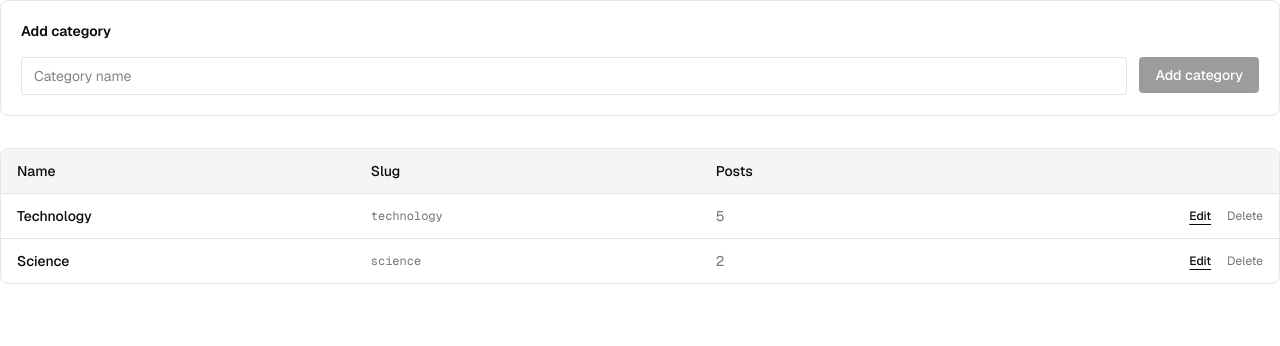
Scenario: CategoryManager › add form submits POST /api/categories and adds to list
In the field with placeholder "Category name": [574, 76] box [21,57,1127,95], type "History"
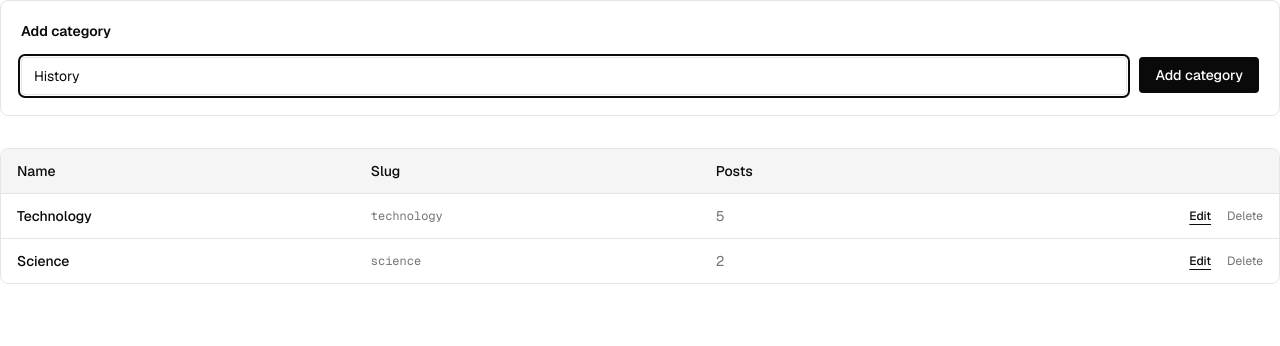
Click the button "Add category": [1199, 75] box [1139,57,1259,93]
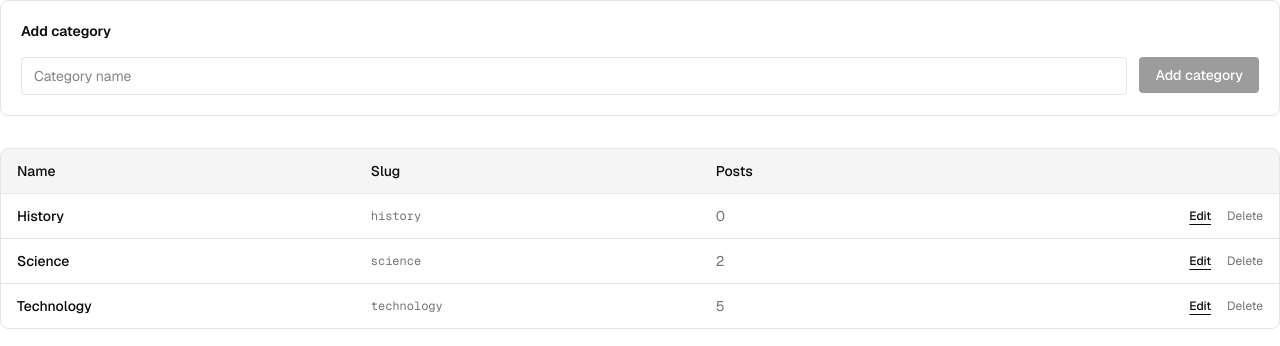
Expected: the text "History" is shown, [17,207,64,225]
